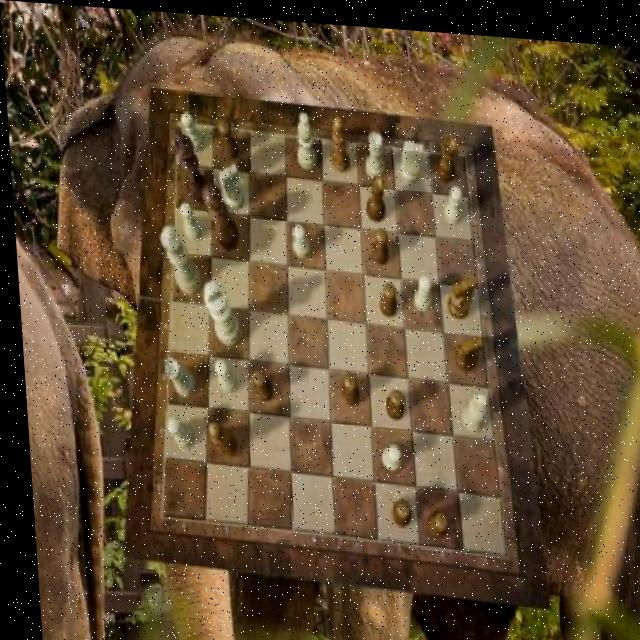bishop: (327, 111, 347, 168), (203, 420, 234, 456)
black-bishop: (170, 123, 208, 203)
black-king: (442, 268, 474, 314), (448, 327, 480, 366)
black-knight: (216, 117, 238, 158), (247, 366, 269, 399), (379, 382, 401, 415), (368, 223, 387, 261), (375, 276, 394, 312), (336, 369, 355, 403), (421, 505, 443, 534), (385, 493, 406, 522)
black-pawn: (198, 181, 238, 249)
black-queen: (433, 130, 458, 178), (362, 170, 384, 217)
black-rook: (294, 108, 316, 166), (454, 385, 483, 427)
white-bishop: (199, 276, 238, 343)
white-king: (215, 160, 242, 207), (397, 135, 425, 179)
white-knight: (179, 110, 204, 151), (161, 414, 190, 447), (177, 199, 199, 239), (441, 179, 463, 219), (209, 356, 233, 391), (408, 269, 429, 306), (289, 219, 308, 255), (376, 438, 397, 465)
white-pawn: (156, 222, 198, 292)
white-queen: (158, 356, 191, 396), (363, 127, 384, 176)
